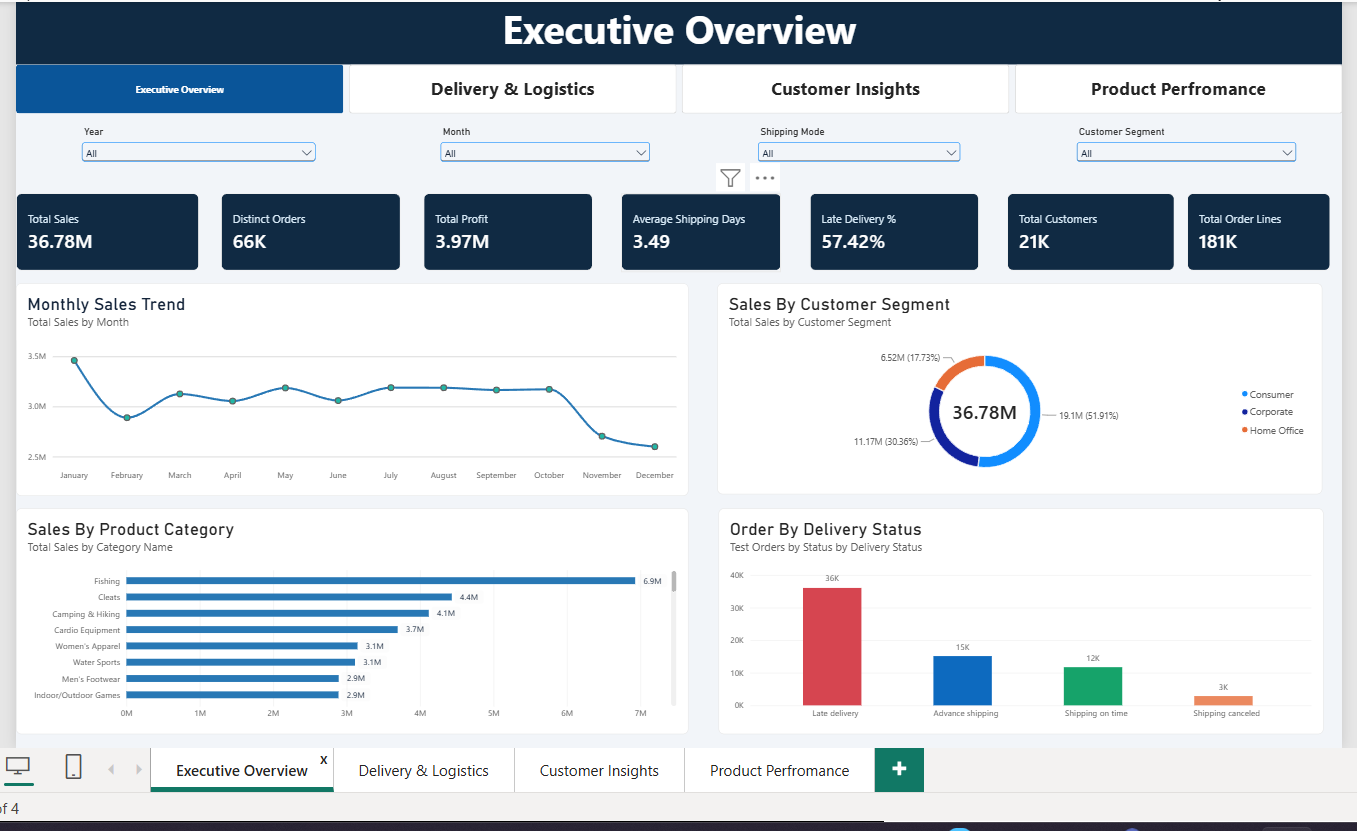

Layout of this report page (visuals, bound fields, positions):
{"tool":"powerbi","page":{"name":"Executive  Overview","canvas":[1920,1080],"ordinal":0},"visuals":[{"type":"cardVisual","fields":{"Data":["Fact_ecom.Total Sales"]},"box":[0,277.5,265,112.5],"z":0},{"type":"cardVisual","fields":{"Data":["DataCoSupplyChainDataset.Late Delivery %"]},"box":[1150,277.5,245,112.5],"z":1000},{"type":"cardVisual","fields":{"Data":["Fact_ecom.Total Profit"]},"box":[590,277.5,245,112.5],"z":2000},{"type":"cardVisual","fields":{"Data":["Fact_ecom.Total Orders"]},"box":[297.5,277.5,260,112.5],"z":3000},{"type":"cardVisual","fields":{"Data":["Fact_ecom.Total Customers"]},"box":[1435,277.5,242.5,112.5],"z":4000},{"type":"cardVisual","fields":{"Data":["DataCoSupplyChainDataset.Average Shipping Days"]},"box":[875,277.5,232.5,112.5],"z":5000},{"type":"lineChart","title":"Monthly Sales Trend","fields":{"Category":["Dim_Date.Date.Variation.Date Hierarchy.Month"],"Y":["Fact_ecom.Total Sales"]},"box":[0,407.2,973.6,307.6],"z":6000},{"type":"clusteredBarChart","title":"Sales By Product Category","fields":{"Category":["Dim_Product (1).Category Name"],"Y":["Fact_ecom.Total Sales"]},"box":[0,732.9,973.6,327.5],"z":7000},{"type":"donutChart","title":"Sales By Customer Segment ","fields":{"Category":["Dim_customers.Customer Segment"],"Y":["Fact_ecom.Total Sales"]},"box":[1016,408,875.9,305.8],"z":8000},{"type":"clusteredColumnChart","title":"Order By Delivery Status","fields":{"Category":["Fact_ecom.Delivery Status"],"Y":["DataCoSupplyChainDataset.Test Orders by Status"]},"box":[1017,732.9,875.9,327.5],"z":9000},{"type":"slicer","fields":{"Values":["Dim_Date.Month"]},"box":[609.3,179.1,312.9,80.3],"z":10000},{"type":"slicer","fields":{"Values":["Dim_Date.Year"]},"box":[90.6,179.1,347.9,80.3],"z":11000},{"type":"slicer","fields":{"Values":["Dim_customers.Customer Segment"]},"box":[1531.4,179.1,327.3,80.3],"z":12000},{"type":"slicer","fields":{"Values":["Fact_ecom.Shipping Mode"]},"box":[1070.3,179.1,302.6,80.3],"z":13000},{"type":"textbox","box":[0,0,1920.4,90.6],"z":14000},{"type":"pageNavigator","box":[0,90.6,1920.4,71],"z":15000},{"type":"cardVisual","fields":{"Data":["DataCoSupplyChainDataset.Total Order Lines"]},"box":[1695,277.5,207.5,112.5],"z":16000}]}

Visuals, with their boxes on the page's 1920x1080 design canvas (x1, y1, x2, y2). These are canvas units, not pixel positions in the 1357x831 screenshot, which may show the page scaled, cropped or inside an application window:
cardVisual - Fact_ecom.Total Sales: bbox(0, 278, 265, 390)
cardVisual - DataCoSupplyChainDataset.Late Delivery %: bbox(1150, 278, 1395, 390)
cardVisual - Fact_ecom.Total Profit: bbox(590, 278, 835, 390)
cardVisual - Fact_ecom.Total Orders: bbox(298, 278, 558, 390)
cardVisual - Fact_ecom.Total Customers: bbox(1435, 278, 1678, 390)
cardVisual - DataCoSupplyChainDataset.Average Shipping Days: bbox(875, 278, 1108, 390)
"Monthly Sales Trend" lineChart: bbox(0, 407, 974, 715)
"Sales By Product Category" clusteredBarChart: bbox(0, 733, 974, 1060)
"Sales By Customer Segment " donutChart: bbox(1016, 408, 1892, 714)
"Order By Delivery Status" clusteredColumnChart: bbox(1017, 733, 1893, 1060)
slicer - Dim_Date.Month: bbox(609, 179, 922, 259)
slicer - Dim_Date.Year: bbox(91, 179, 438, 259)
slicer - Dim_customers.Customer Segment: bbox(1531, 179, 1859, 259)
slicer - Fact_ecom.Shipping Mode: bbox(1070, 179, 1373, 259)
textbox: bbox(0, 0, 1920, 91)
pageNavigator: bbox(0, 91, 1920, 162)
cardVisual - DataCoSupplyChainDataset.Total Order Lines: bbox(1695, 278, 1902, 390)
